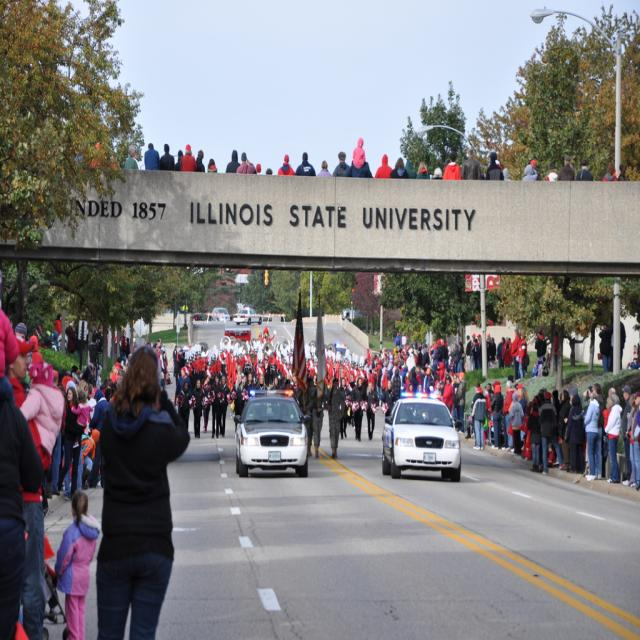car: (233, 383, 309, 479), (383, 396, 460, 476)
